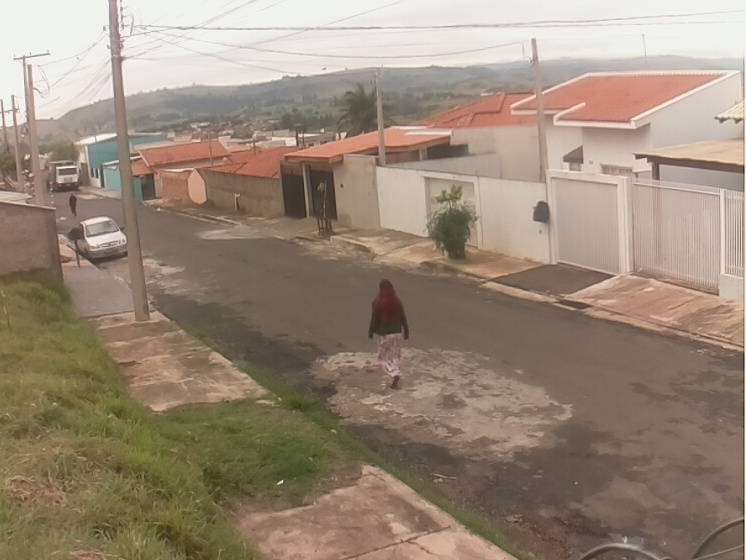person: (366, 279, 411, 392), (68, 193, 77, 215)
